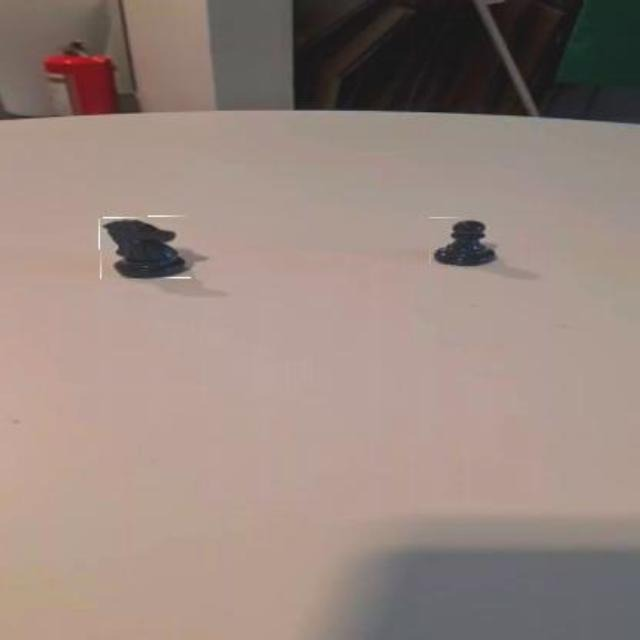black-knight: (99, 216, 194, 279)
black-pawn: (430, 218, 506, 266)
